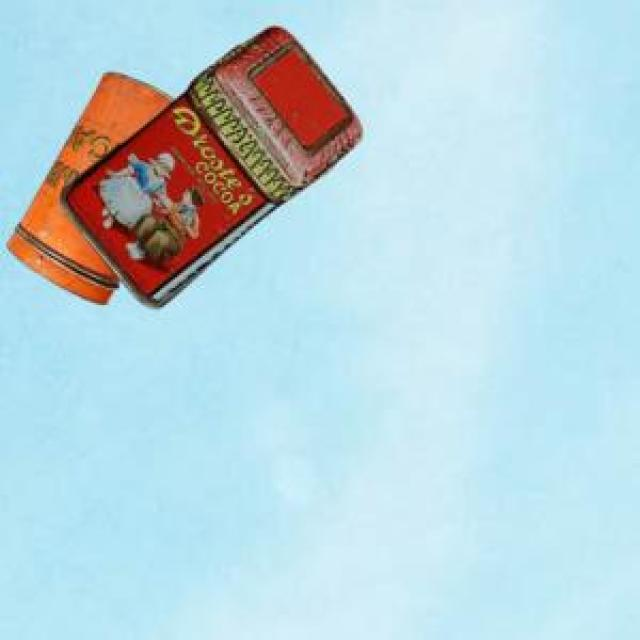logam: (57, 25, 359, 306), (5, 69, 172, 302)
